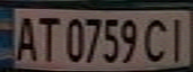0: (60, 14, 84, 63)
5: (100, 15, 121, 64)
7: (81, 13, 103, 64)
9: (118, 16, 142, 64)
A: (9, 11, 39, 62)
C: (139, 15, 172, 64)
I: (163, 14, 193, 63)
T: (33, 12, 60, 62)
